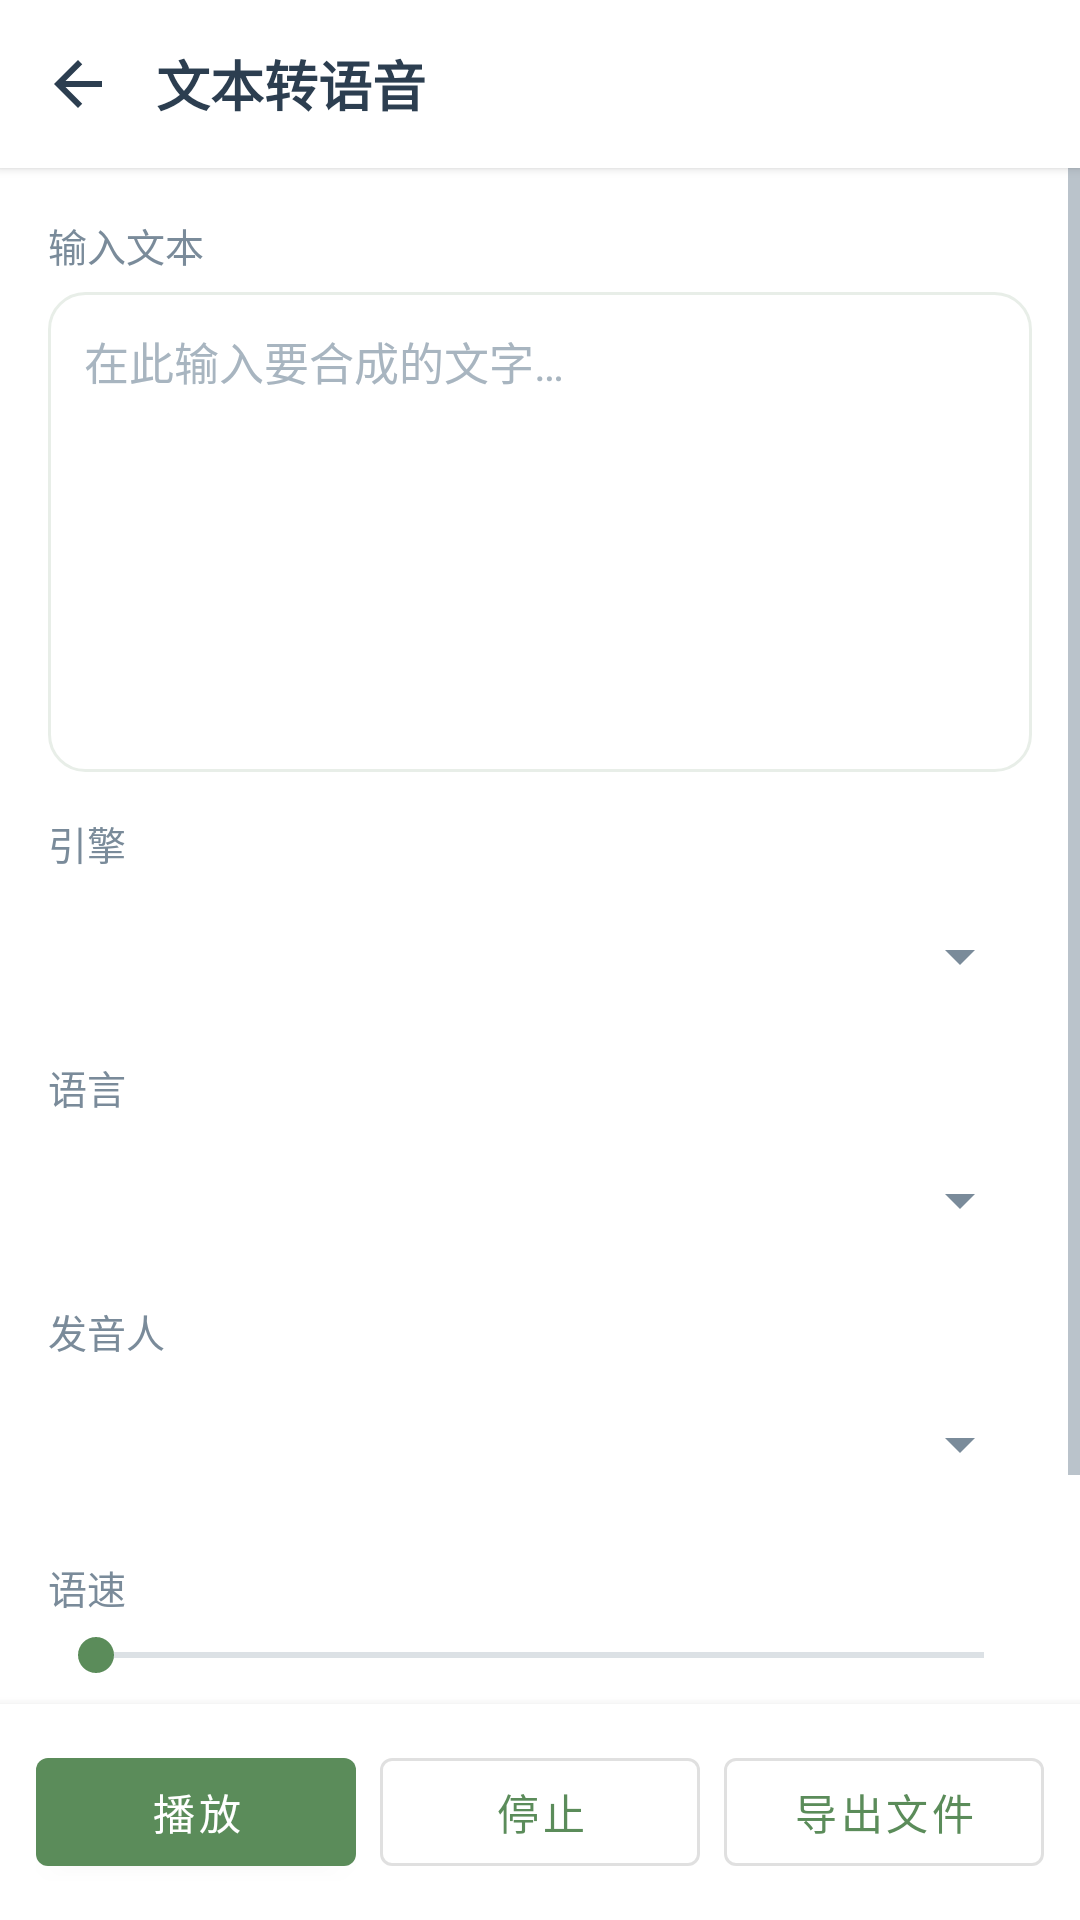

Where icons sit on this 1080 × 1920 app screen, as [x1,y1,x2,y2]:
返回: [54,60,102,108]
